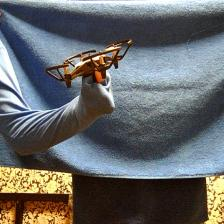drone: (44, 37, 132, 89)
